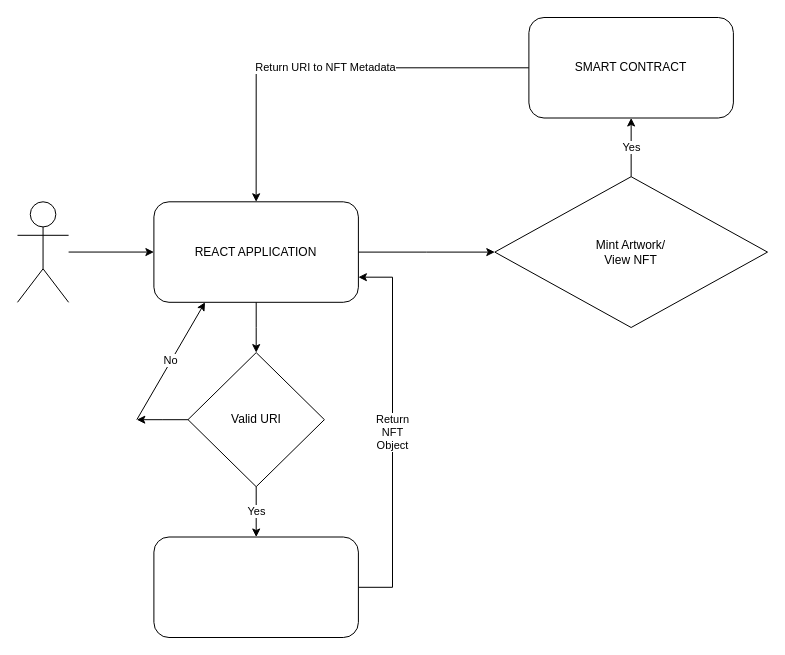
Image size: 785x655. Some labels were removed from this diagram. Here are the shapes that lost their labels. From the top down, the centre of each, then its label:
(x=42, y=251): User
(x=255, y=587): FLASK API
